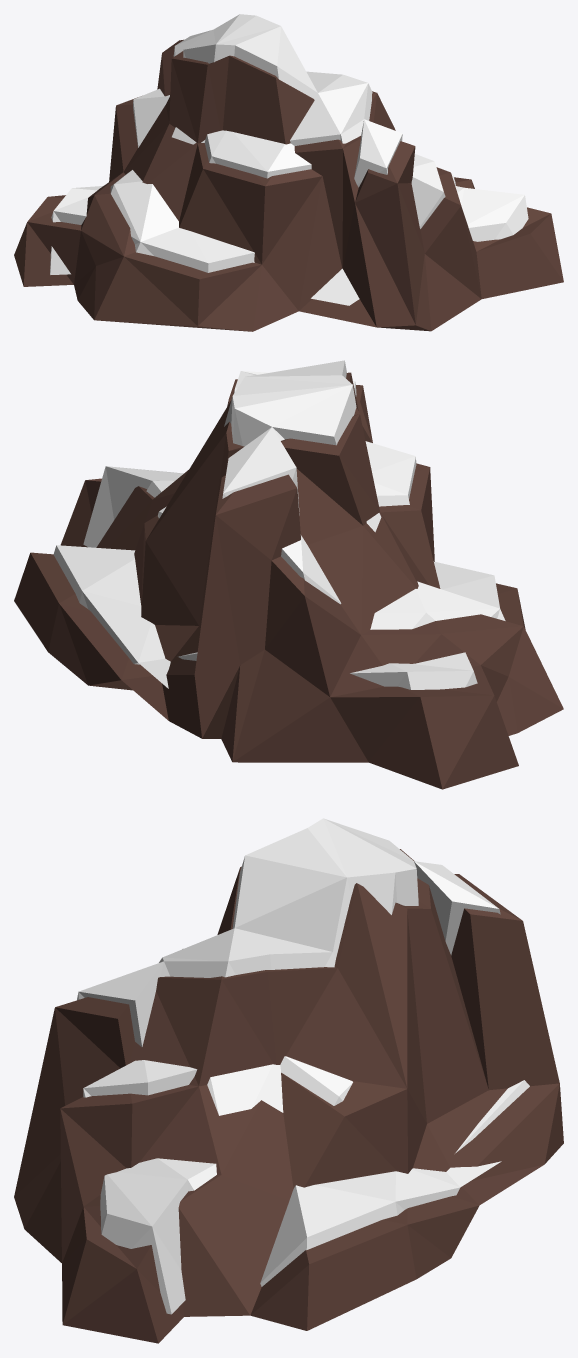
Rendered from snow_rock_023.fbx.
3 renders of one model, top to bottom at view 1: azimuth 30°, elevation 25°; view 2: azimuth 150°, elevation 25°; view 3: azimuth 270°, elevation 25°, orthographic. The views are drawn at different scales.
Visible parts, largest first — view 1: snow_rock_023; view 2: snow_rock_023; view 3: snow_rock_023.
Boxes of the visible parts, x1,y1,x2,y2 form: snow_rock_023: (14, 14, 563, 331); snow_rock_023: (14, 360, 563, 789); snow_rock_023: (14, 818, 563, 1343).
Bounding box in the file's own units: 1159 × 885 × 595.
